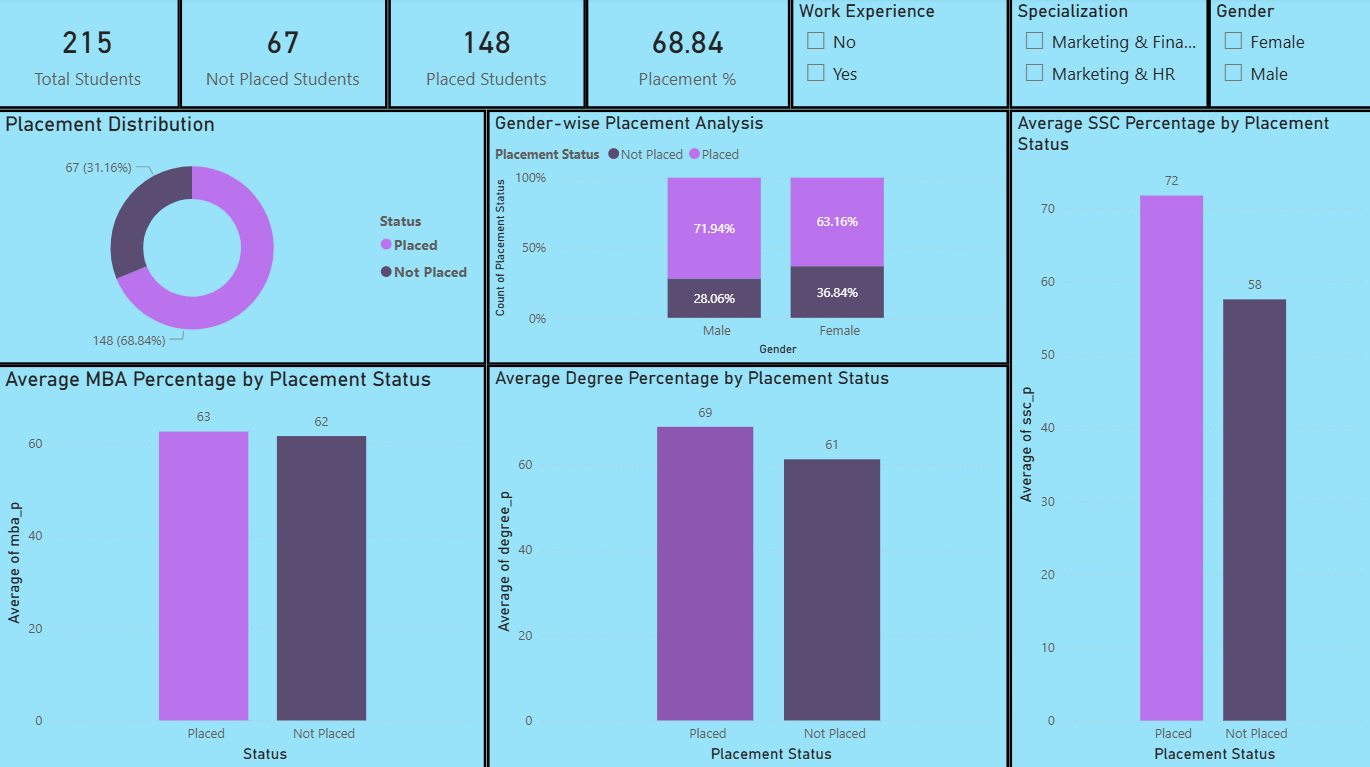

This screenshot's page, from the dashboard's own definition file:
{"tool":"powerbi","page":{"name":"Page 1","canvas":[1280,720],"ordinal":0},"visuals":[{"type":"card","fields":{"Values":["placement_cleaned.Total Students"]},"box":[0,0,170.2,104.3],"z":0},{"type":"card","fields":{"Values":["placement_cleaned.Placed Students"]},"box":[363.6,0,183.9,104.3],"z":1},{"type":"card","fields":{"Values":["placement_cleaned.Not Placed Students"]},"box":[170.2,0,193.5,104.3],"z":2},{"type":"card","fields":{"Values":["placement_cleaned.Placement %"]},"box":[547.5,0,190.7,104.3],"z":3},{"type":"donutChart","title":"Placement Distribution","fields":{"Y":["placement_cleaned.Total Students"],"Category":["placement_cleaned.Placement Status"]},"box":[0,104.3,455.6,237.4],"z":4},{"type":"clusteredColumnChart","title":"Average MBA Percentage by Placement Status","fields":{"Y":["Avg(placement_cleaned.mba_p)"],"Category":["placement_cleaned.Placement Status"]},"box":[0,341.7,455.6,378.7],"z":5},{"type":"hundredPercentStackedColumnChart","title":"Gender-wise Placement Analysis","fields":{"Category":["placement_cleaned.Gender"],"Series":["placement_cleaned.Placement Status"],"Y":["CountNonNull(placement_cleaned.Placement Status)"]},"box":[455.6,104.3,485.8,237.4],"z":6},{"type":"slicer","title":"Gender","fields":{"Values":["placement_cleaned.Gender"]},"box":[1126.6,0,153.7,104.3],"z":7},{"type":"slicer","title":"Work Experience","fields":{"Values":["placement_cleaned.Work Experience"]},"box":[738.3,0,203.1,104.3],"z":8},{"type":"slicer","title":"Specialization","fields":{"Values":["placement_cleaned.Specialisation"]},"box":[941.3,0,185.2,104.3],"z":9},{"type":"clusteredColumnChart","title":"Average Degree Percentage by Placement Status","fields":{"Y":["Avg(placement_cleaned.degree_p)"],"Category":["placement_cleaned.Placement Status"]},"box":[455.6,341.7,485.8,378.7],"z":10},{"type":"clusteredColumnChart","title":"Average SSC Percentage by Placement Status","fields":{"Y":["Avg(placement_cleaned.ssc_p)"],"Category":["placement_cleaned.Placement Status"]},"box":[941.3,104.3,338.9,616.1],"z":11}]}

Visuals, with their boxes in screenshot pixels (x1, y1, x2, y2), scaled from the page's 1280x720 canvas onto the 1370x767 screenshot:
card - placement_cleaned.Total Students: crop(0, 0, 182, 111)
card - placement_cleaned.Placed Students: crop(389, 0, 586, 111)
card - placement_cleaned.Not Placed Students: crop(182, 0, 389, 111)
card - placement_cleaned.Placement %: crop(586, 0, 790, 111)
"Placement Distribution" donutChart: crop(0, 111, 488, 364)
"Average MBA Percentage by Placement Status" clusteredColumnChart: crop(0, 364, 488, 766)
"Gender-wise Placement Analysis" hundredPercentStackedColumnChart: crop(488, 111, 1008, 364)
"Gender" slicer: crop(1206, 0, 1369, 111)
"Work Experience" slicer: crop(790, 0, 1008, 111)
"Specialization" slicer: crop(1007, 0, 1206, 111)
"Average Degree Percentage by Placement Status" clusteredColumnChart: crop(488, 364, 1008, 766)
"Average SSC Percentage by Placement Status" clusteredColumnChart: crop(1007, 111, 1369, 766)
